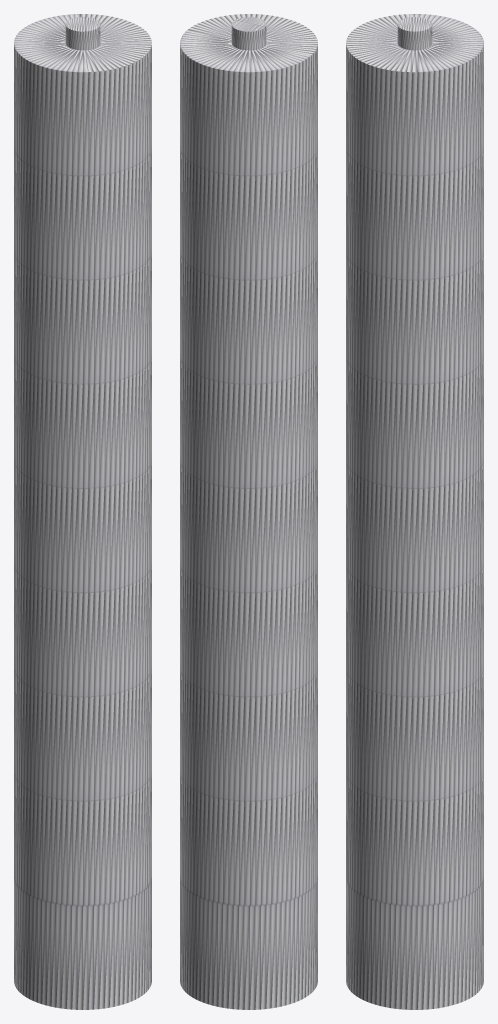
File: colonnette_haut.dae
3 renders of one model, left to right at view 1: azimuth 90°, elevation 25°; view 2: azimuth 150°, elevation 25°; view 3: azimuth 270°, elevation 25°, orthographic.
Visible parts, largest first — view 1: Colonette2; view 2: Colonette2; view 3: Colonette2.
Boxes of the visible parts, <box> form: Colonette2: <box>14,14,151,1009</box>; Colonette2: <box>180,14,317,1009</box>; Colonette2: <box>346,14,483,1009</box>.
Size of the model in its own units: 0.02 by 0.02 by 0.156.
1 material, 1 textured.
